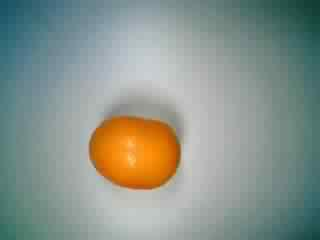orange: (85, 103, 183, 197)
